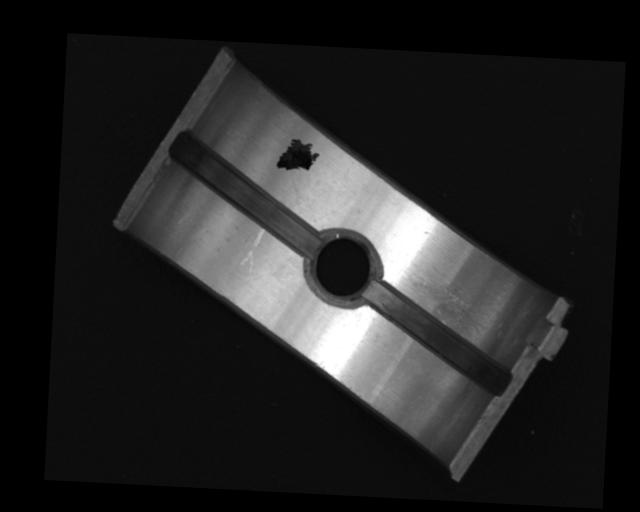blot: (276, 137, 320, 172)
gap: (166, 132, 322, 257), (360, 283, 518, 396)
hole: (305, 228, 381, 309)
nick: (239, 225, 265, 273)
scratch: (405, 275, 492, 341)
